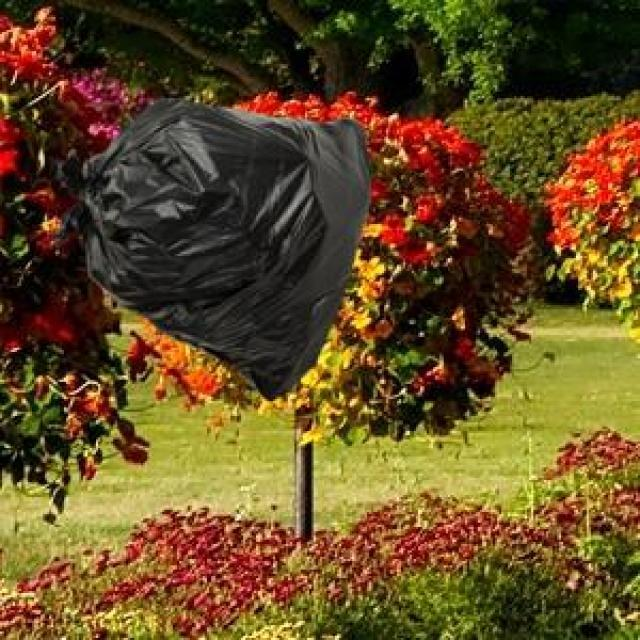Vinyl: (75, 98, 369, 400)
